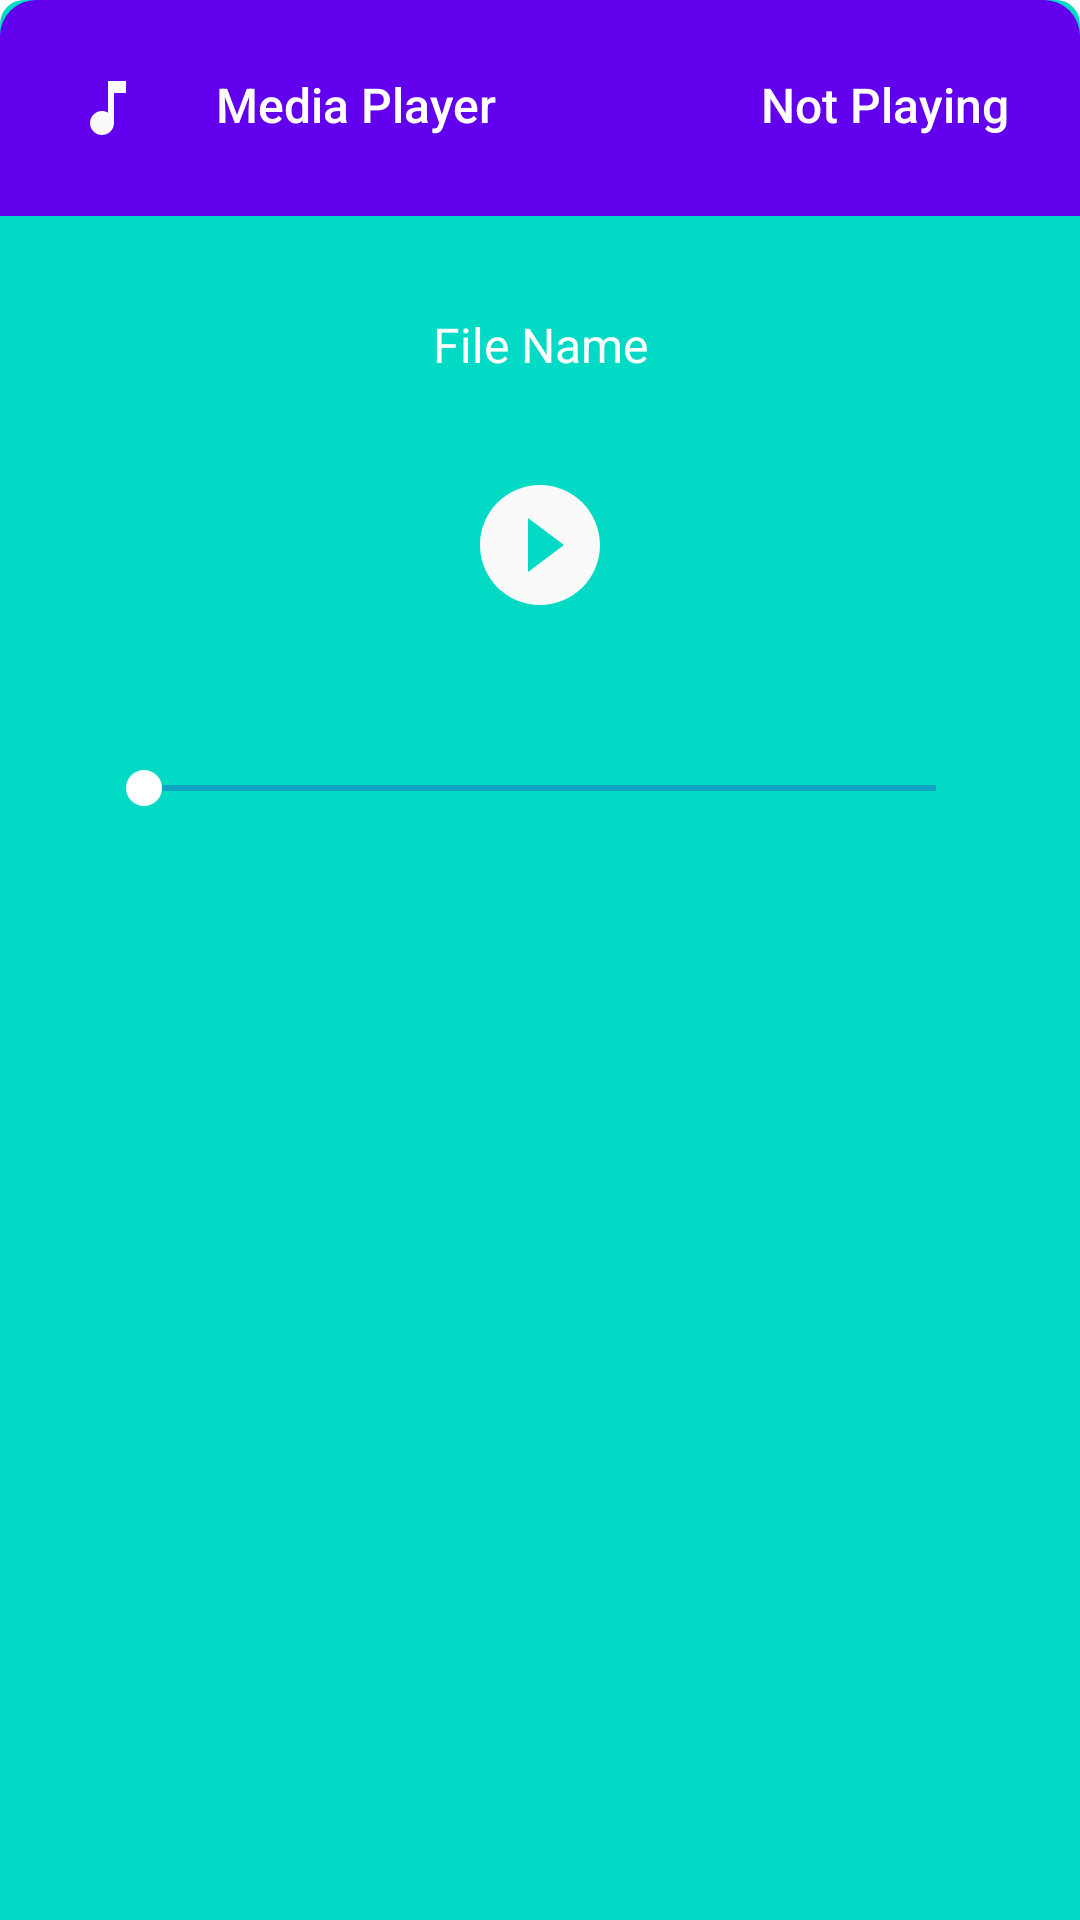

Where to tap for icons on this 1080 × 1920 app screen, as point (x, y):
play circle: point (540, 545)
